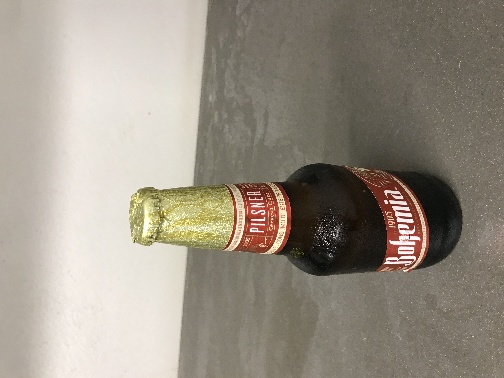BPB: (217, 118, 335, 199), (96, 132, 217, 183)
